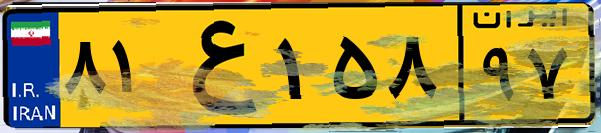1: (270, 28, 330, 110), (110, 28, 158, 98)
5: (330, 28, 385, 110)
7: (525, 38, 570, 115)
8: (385, 28, 445, 110), (57, 26, 110, 100)
9: (475, 38, 525, 113)
ع: (158, 12, 270, 120)
